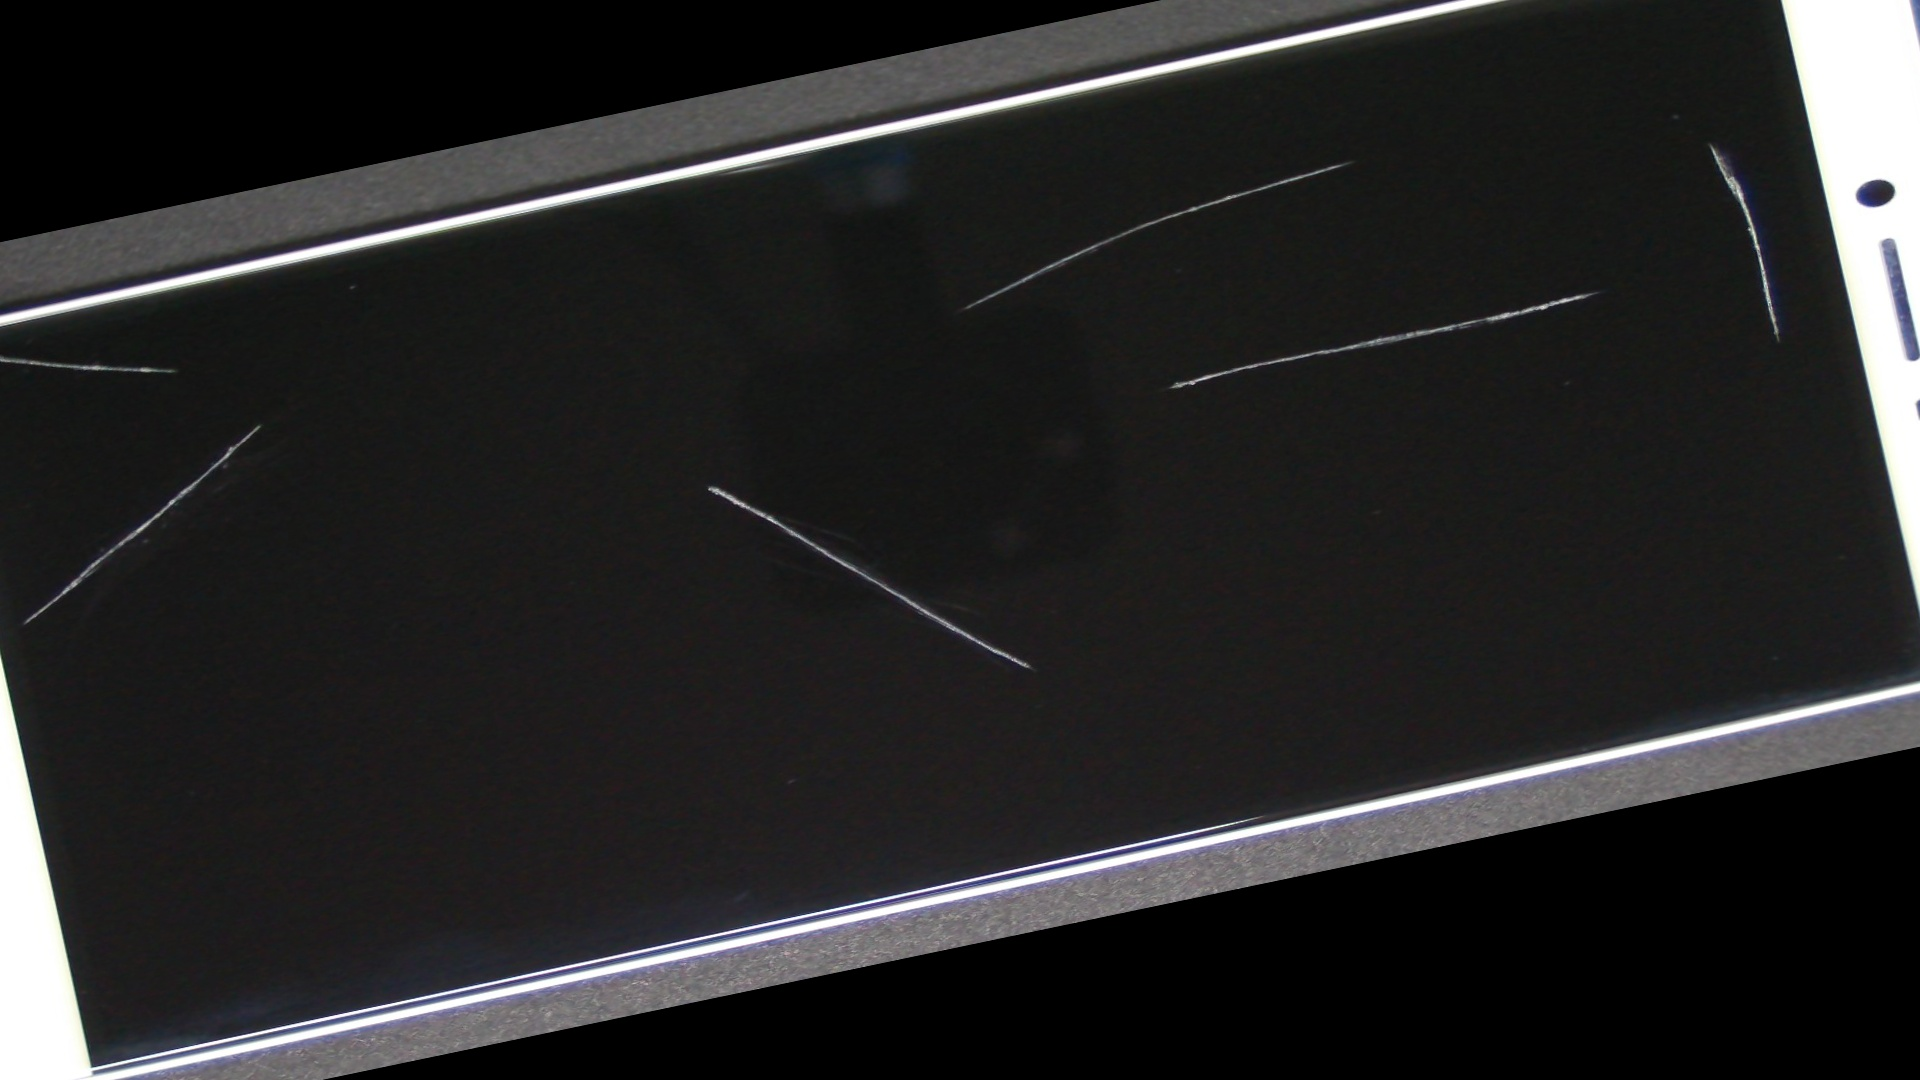oil: (637, 16, 1920, 665), (526, 0, 1920, 425), (211, 202, 1207, 769), (712, 0, 1920, 467), (0, 260, 530, 591)
